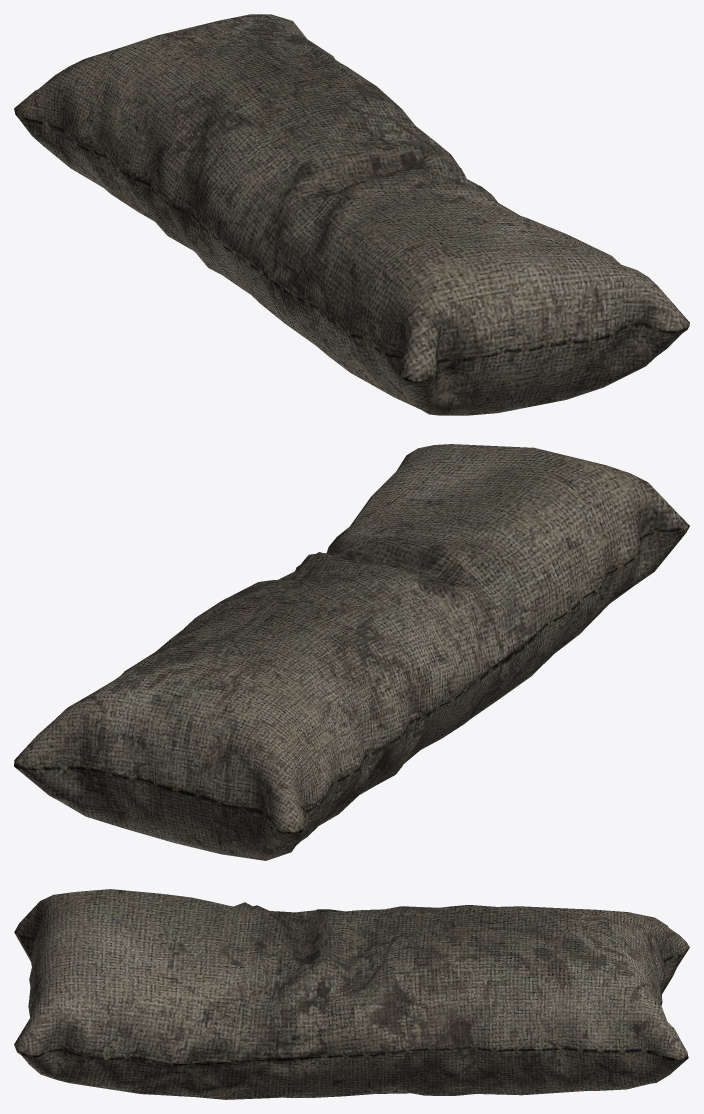
The model's file is SM_Sandbags_03.glb.
3 renders of one model, top to bottom at view 1: azimuth 30°, elevation 25°; view 2: azimuth 150°, elevation 25°; view 3: azimuth 270°, elevation 25°, orthographic. The views are drawn at different scales.
Visible parts, largest first — view 1: SM_Sandbags_03; view 2: SM_Sandbags_03; view 3: SM_Sandbags_03.
Boxes of the visible parts, x1,y1,x2,y2 form: SM_Sandbags_03: (14, 14, 689, 415); SM_Sandbags_03: (14, 444, 689, 860); SM_Sandbags_03: (14, 889, 689, 1099).
Bounding box in the file's own units: 0.354 × 0.2246 × 0.8522.
1 material, 1 textured.
